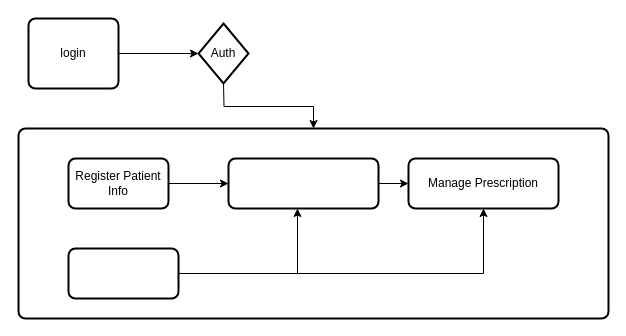
Image size: 626x336. Some labels were removed from this diagram. The centre of each missing label's shape, as x and y in pixels:
"Manage Diagnosis" goes at pixel 303 183.
"Review History" goes at pixel 123 273.
